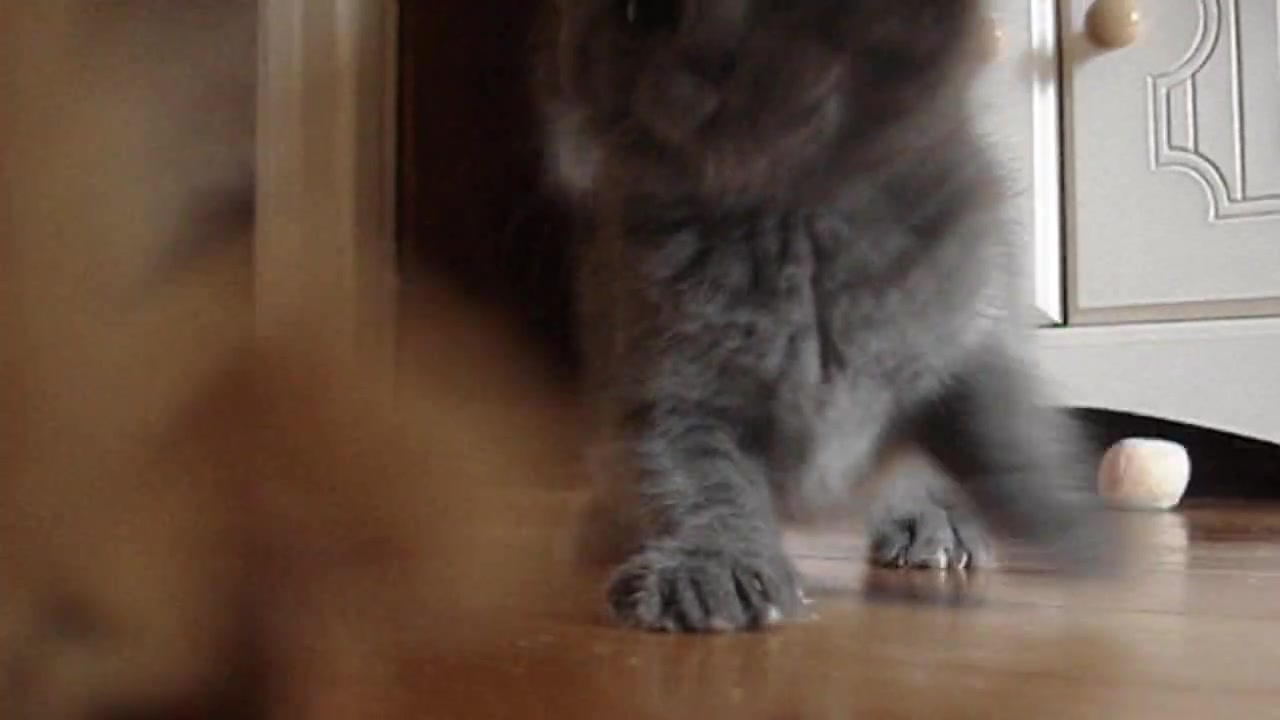cat: (540, 1, 1104, 639)
